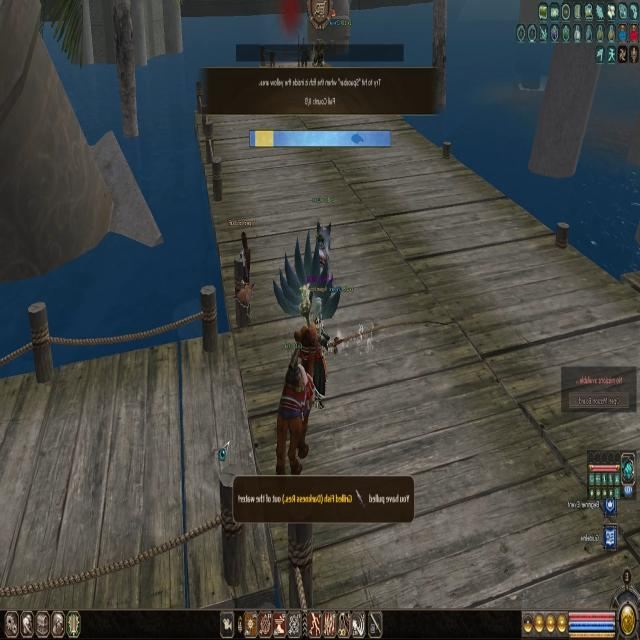fishes: (351, 132, 364, 144)
